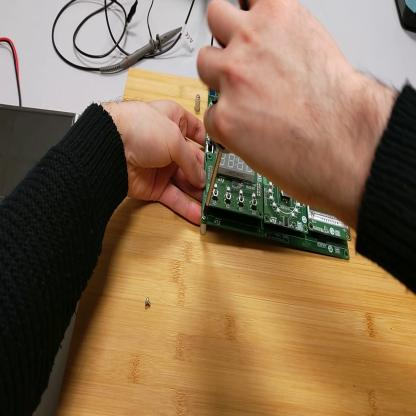hand: (198, 2, 352, 211), (117, 96, 213, 224)
low voltage board: (201, 31, 352, 261)
oscilloscope probe tip: (100, 27, 183, 76)
screwdriver-: (203, 142, 233, 215)
welder station: (396, 3, 416, 34)
working area: (57, 69, 416, 416)
